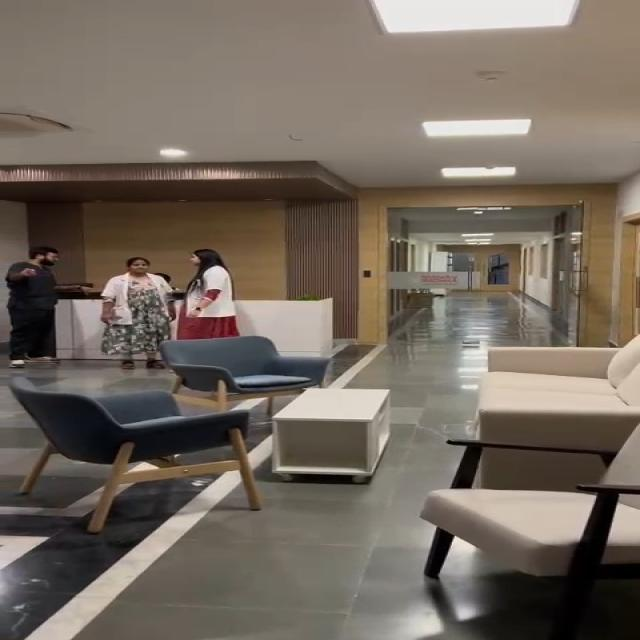door: (379, 183, 620, 353)
furniture: (38, 304, 347, 531), (408, 349, 640, 589)
moving_object: (19, 239, 258, 363)
